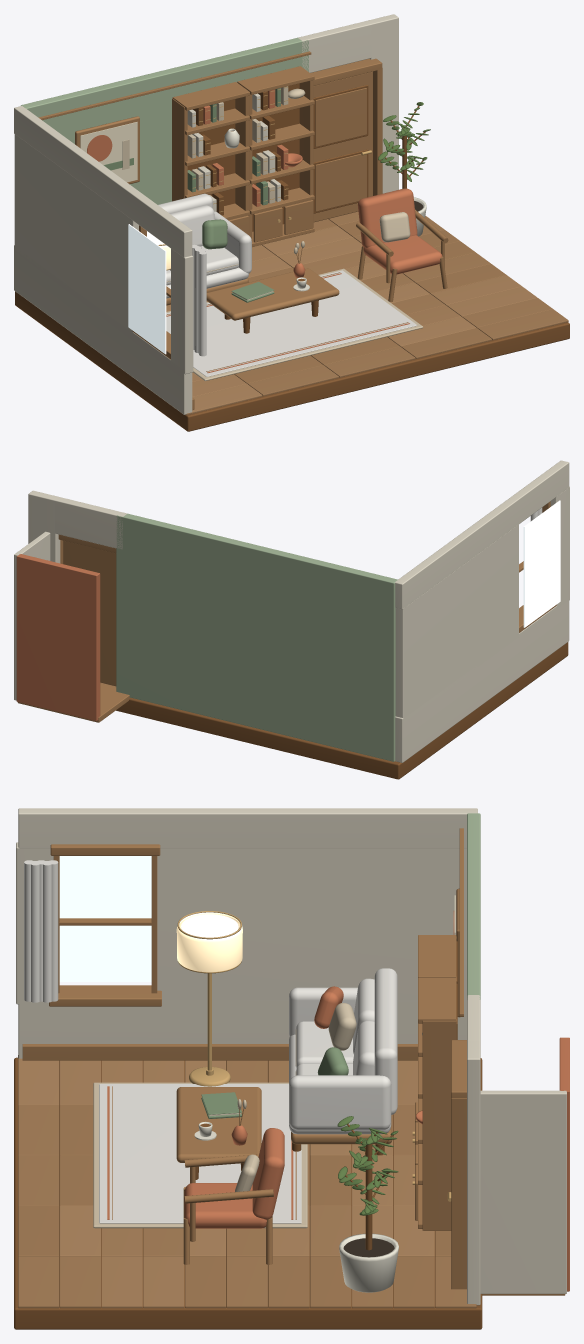
File: afternoon-atelier.glb
The picture shows the model from 3 angles, top to bottom: view 1: azimuth 30°, elevation 25°; view 2: azimuth 150°, elevation 25°; view 3: azimuth 270°, elevation 25°; orthographic projection. The views are drawn at different scales.
Visible parts, largest first — view 1: Atelier_Static_WallSecondaryPigment, Atelier_Static_HoneyOak, Atelier_Static_OatLinen, Atelier_Static_OakEndGrain, Atelier_Static_WallPigment, Atelier_Static_OakBoard01, Atelier_Door_HoneyOak, Atelier_Static_OakBoard04, Atelier_Static_OakBoard00, Atelier_Static_Terracotta, Atelier_Static_WindowDaylight, Atelier_Static_CreamWool (+8 smaller); view 2: Atelier_Static_WallPigment, Atelier_Static_WallSecondaryPigment, Atelier_Static_Terracotta, Atelier_Static_OakEndGrain, Atelier_Static_WindowDaylight, Atelier_Door_HoneyOak, Atelier_Static_HoneyOak, Atelier_Static_ChalkPlaster; view 3: Atelier_Static_WallSecondaryPigment, Atelier_Static_HoneyOak, Atelier_Static_OatLinen, Atelier_Static_ChalkPlaster, Atelier_Static_OakBoard01, Atelier_Static_OakBoard00, Atelier_Static_OakEndGrain, Atelier_Static_WindowDaylight, Atelier_Static_OakBoard04, Atelier_Static_OakBoard03, Atelier_Static_Terracotta, Atelier_Static_CreamWool (+9 smaller).
Part boxes in pixels (left/top/right/bottom): Atelier_Static_WallSecondaryPigment: left=14, top=14, right=398, bottom=414; Atelier_Static_HoneyOak: left=38, top=51, right=448, bottom=409; Atelier_Static_OatLinen: left=158, top=193, right=417, bottom=376; Atelier_Static_OakEndGrain: left=15, top=83, right=569, bottom=431; Atelier_Static_WallPigment: left=21, top=37, right=308, bottom=204; Atelier_Static_OakBoard01: left=248, top=211, right=568, bottom=396; Atelier_Door_HoneyOak: left=313, top=71, right=372, bottom=222; Atelier_Static_OakBoard04: left=166, top=226, right=476, bottom=414; Atelier_Static_OakBoard00: left=234, top=215, right=506, bottom=383; Atelier_Static_Terracotta: left=87, top=89, right=442, bottom=372; Atelier_Static_WindowDaylight: left=128, top=224, right=166, bottom=354; Atelier_Static_CreamWool: left=122, top=86, right=423, bottom=381; Atelier_Static_WallPigment: left=116, top=513, right=397, bottom=761; Atelier_Static_WallSecondaryPigment: left=28, top=460, right=569, bottom=762; Atelier_Static_Terracotta: left=16, top=554, right=100, bottom=720; Atelier_Static_OakEndGrain: left=116, top=642, right=568, bottom=779; Atelier_Static_WindowDaylight: left=523, top=500, right=560, bottom=627; Atelier_Door_HoneyOak: left=63, top=540, right=116, bottom=686; Atelier_Static_HoneyOak: left=17, top=501, right=556, bottom=722; Atelier_Static_ChalkPlaster: left=14, top=531, right=50, bottom=700; Atelier_Static_WallSecondaryPigment: left=16, top=808, right=480, bottom=1305; Atelier_Static_HoneyOak: left=22, top=828, right=565, bottom=1295; Atelier_Static_OatLinen: left=24, top=860, right=397, bottom=1223; Atelier_Static_ChalkPlaster: left=480, top=1090, right=566, bottom=1293; Atelier_Static_OakBoard01: left=18, top=1060, right=476, bottom=1308; Atelier_Static_OakBoard00: left=18, top=1105, right=451, bottom=1308; Atelier_Static_OakEndGrain: left=14, top=941, right=482, bottom=1329; Atelier_Static_WindowDaylight: left=59, top=856, right=151, bottom=981; Atelier_Static_OakBoard04: left=18, top=1055, right=434, bottom=1256; Atelier_Static_OakBoard03: left=59, top=1060, right=417, bottom=1308; Atelier_Static_Terracotta: left=107, top=911, right=569, bottom=1291; Atelier_Static_CreamWool: left=93, top=1003, right=422, bottom=1228.
Bounding box in the file's own units: 7.13 × 3.49 × 6.53.
